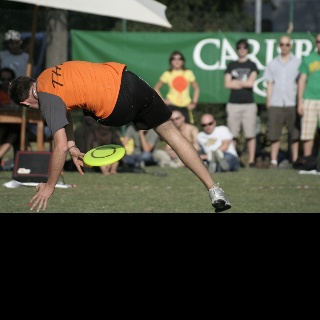without_mask: (200, 118, 212, 134), (169, 113, 182, 127), (279, 38, 290, 53), (172, 53, 182, 67), (238, 43, 248, 57), (8, 40, 17, 53)
